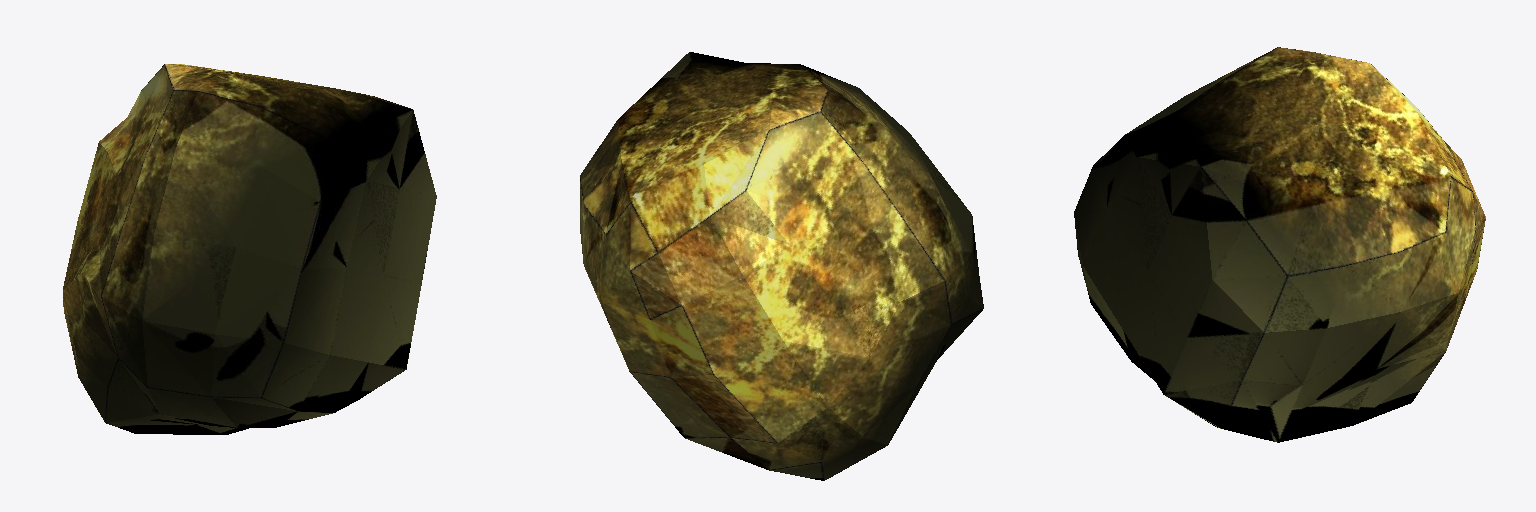
3 renders of one model, left to right at view 1: azimuth 30°, elevation 25°; view 2: azimuth 150°, elevation 25°; view 3: azimuth 270°, elevation 25°, orthographic.
Parts seen in each view (by area): view 1: Gold2; view 2: Gold2; view 3: Gold2.
Part boxes in pixels (x1,y1,x2,y2): Gold2: (63,64,436,434); Gold2: (580,52,983,480); Gold2: (1074,47,1485,442).
Size of the model in its own units: 0.8646 by 0.8963 by 0.9298.
1 materials, 1 textured.